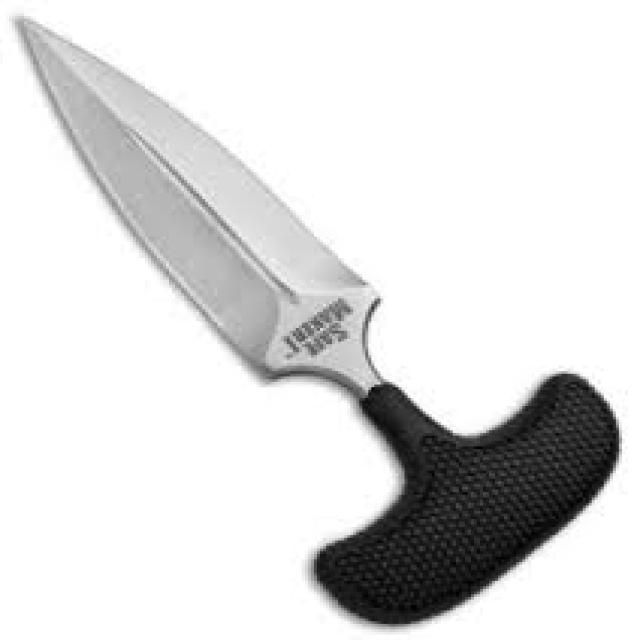knives: (6, 11, 625, 629)
